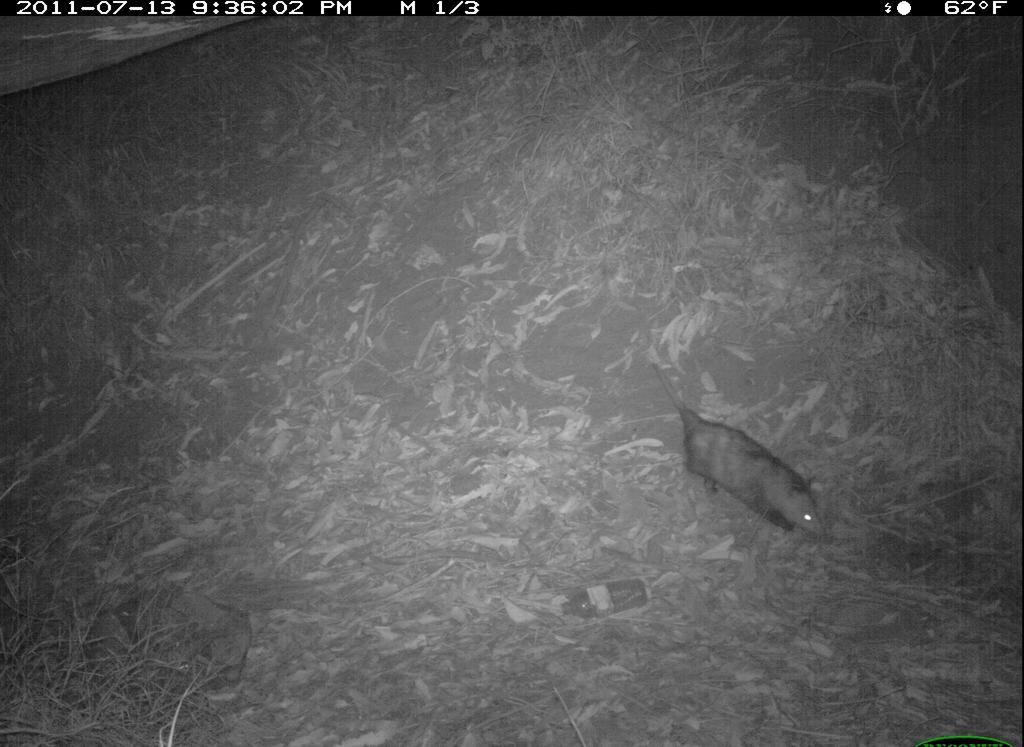opossum: (643, 369, 862, 575)
